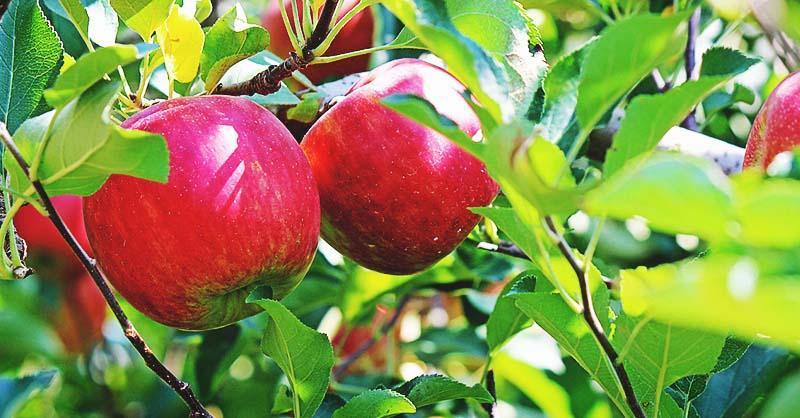apple: (81, 86, 324, 322), (297, 60, 493, 274)
